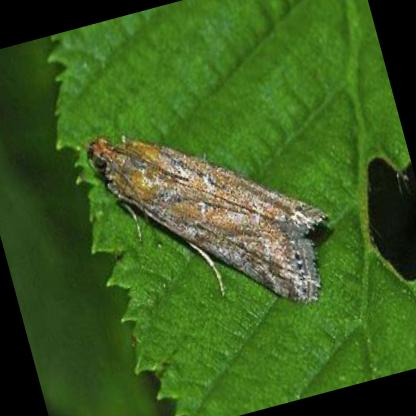Hellula undalis: (83, 133, 333, 304)
